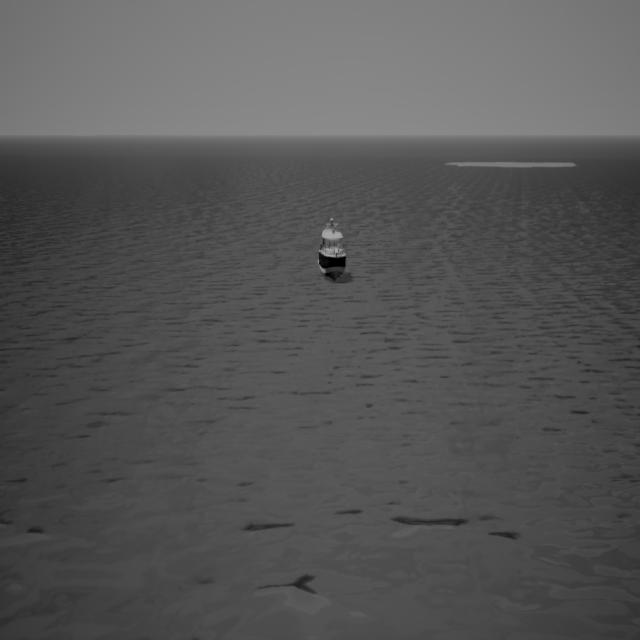ship: (319, 217, 349, 280)
